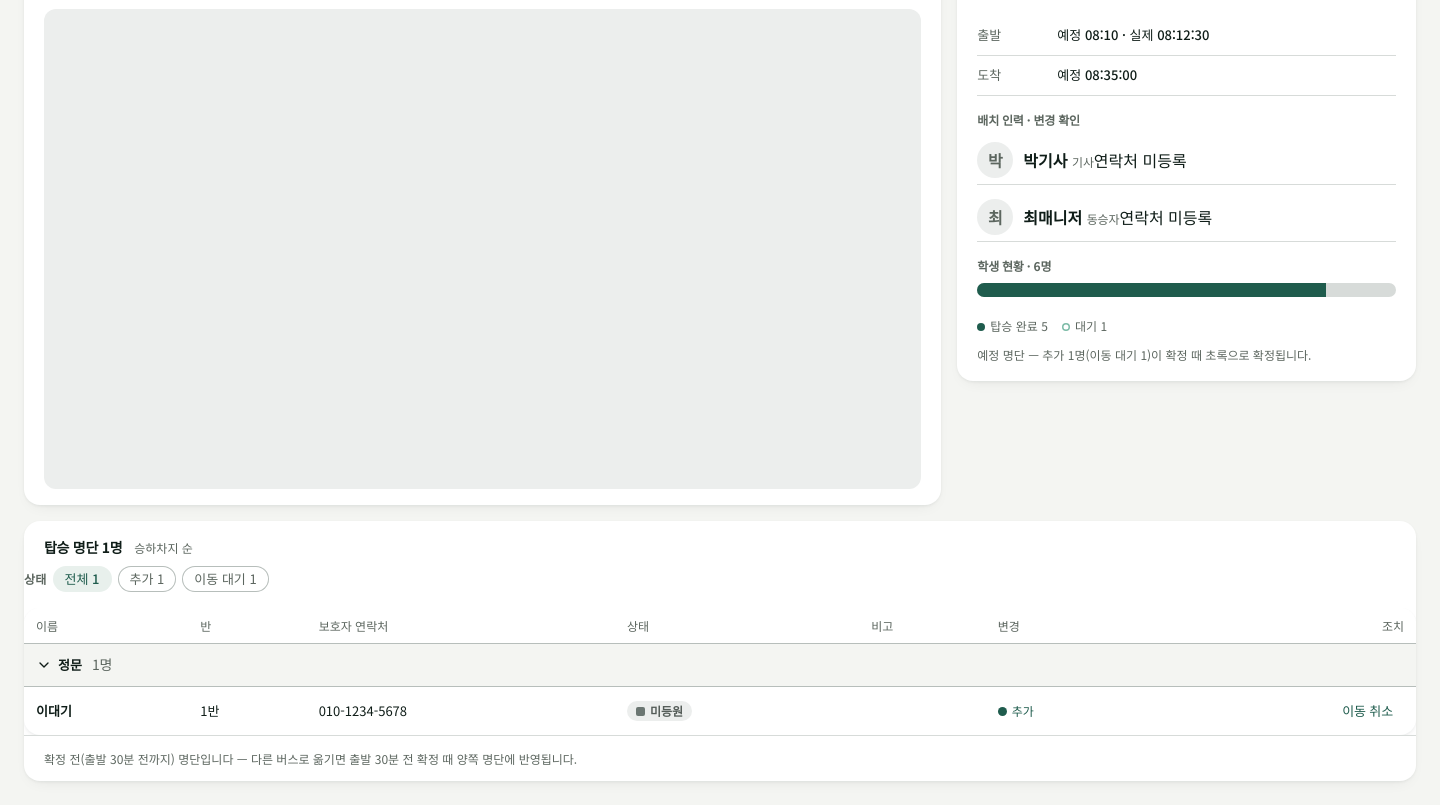
Test: TodayRunPage — 회차 선택·명단·결석 라벨 › 다른 버스로 이동(A-07) › 이동 취소(§5.8.1) › 확인 단계에서 돌아가면 요청을 보내지 않는다
(page scrolled)
Click the button "이동 취소" at {"x": 1368, "y": 711}, box [1331,697,1404,725]
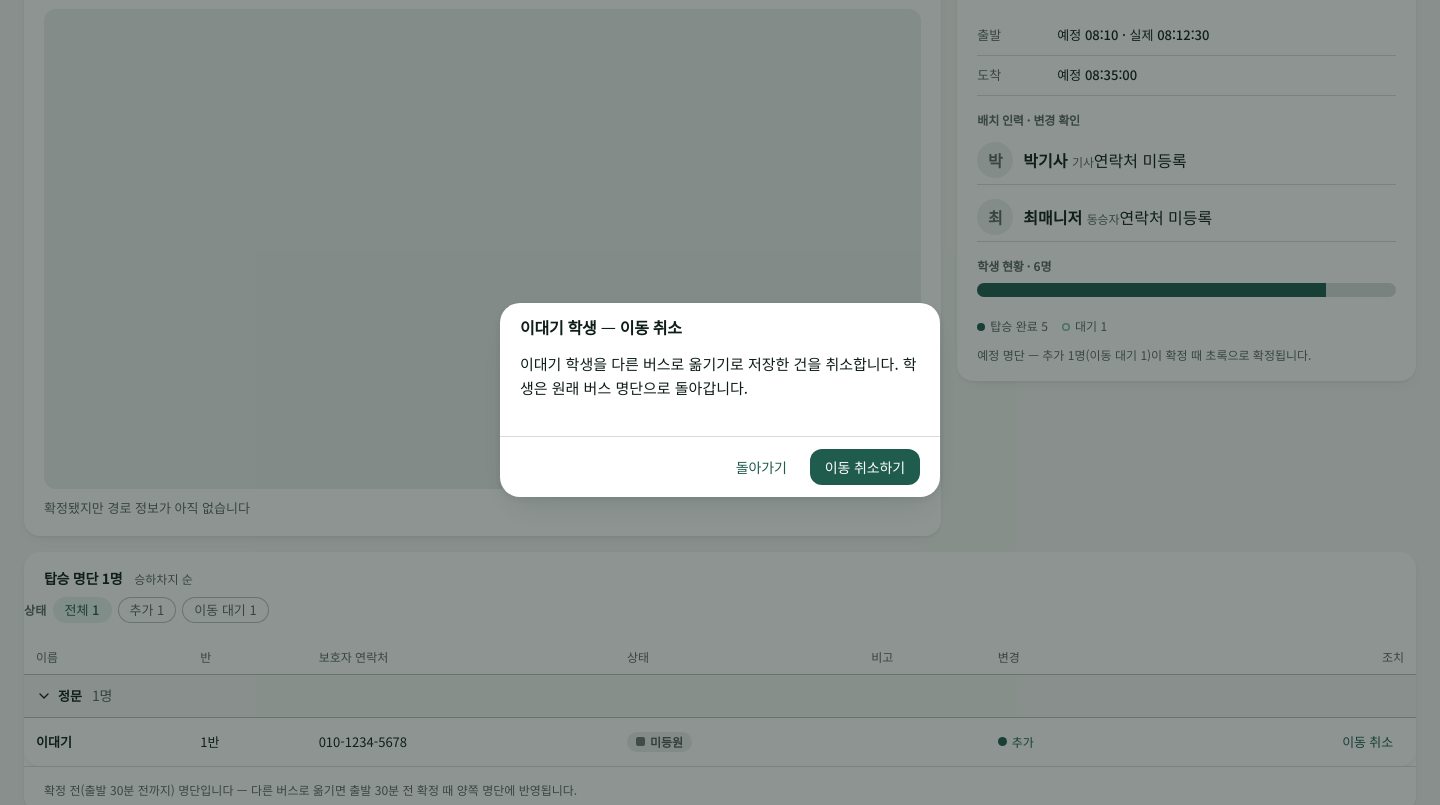
Expected: the text "이대기 학생을 다른 버스로 옮기기로 저장한 건을 취소합니다. 학생은 원래 버스 명단으로 돌아갑니다." is shown, [520,352,920,400]
Click the button "돌아가기" at {"x": 761, "y": 467}, box [721,449,802,485]
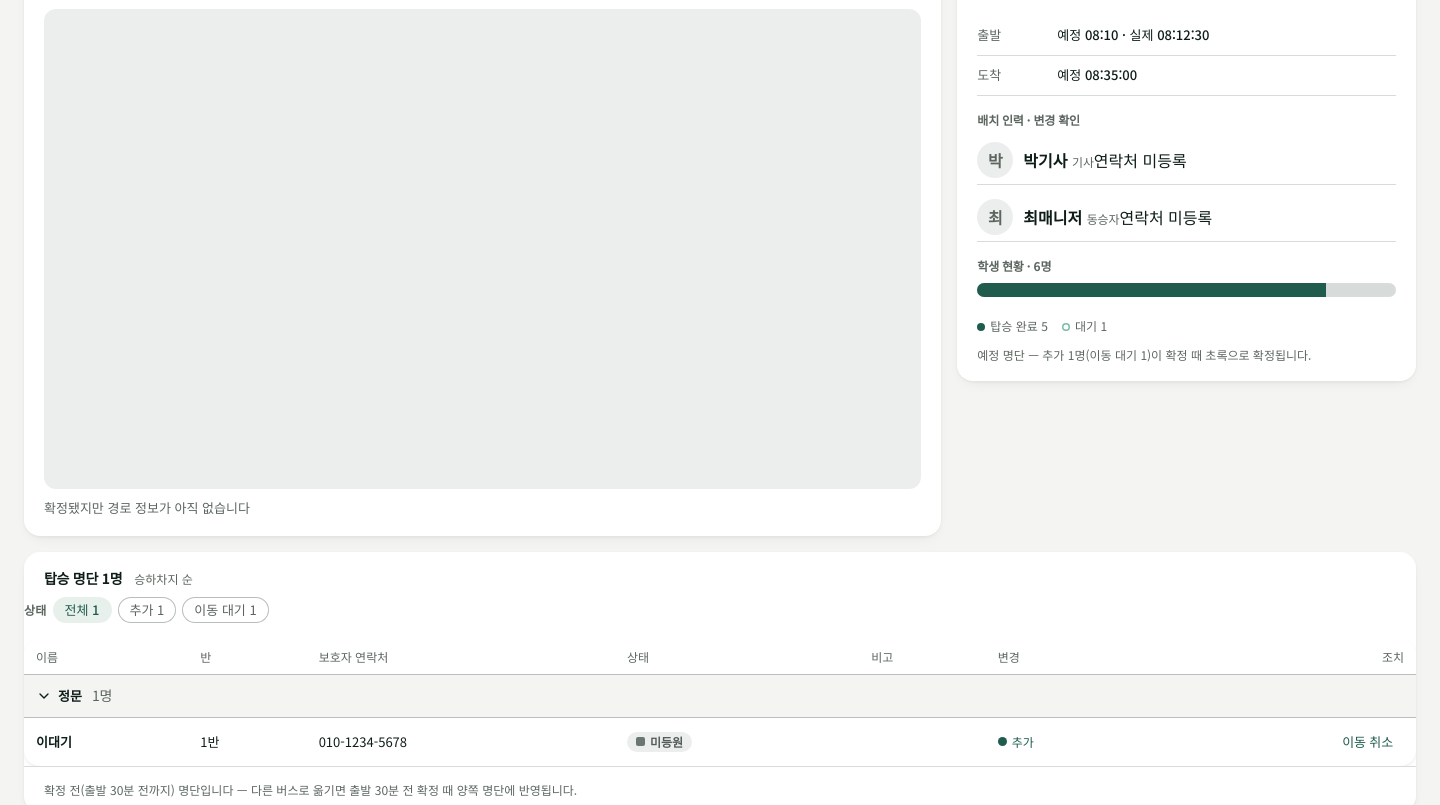
Expected: the button "이동 취소하기" is gone
